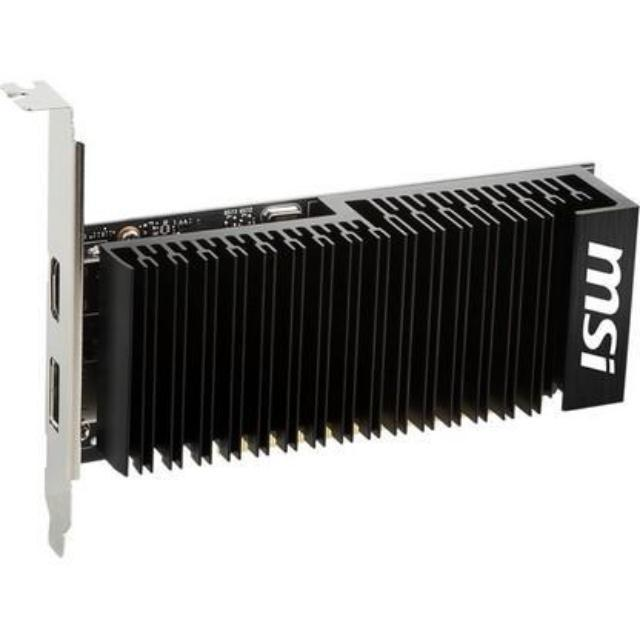GPU: (3, 160, 640, 477)
